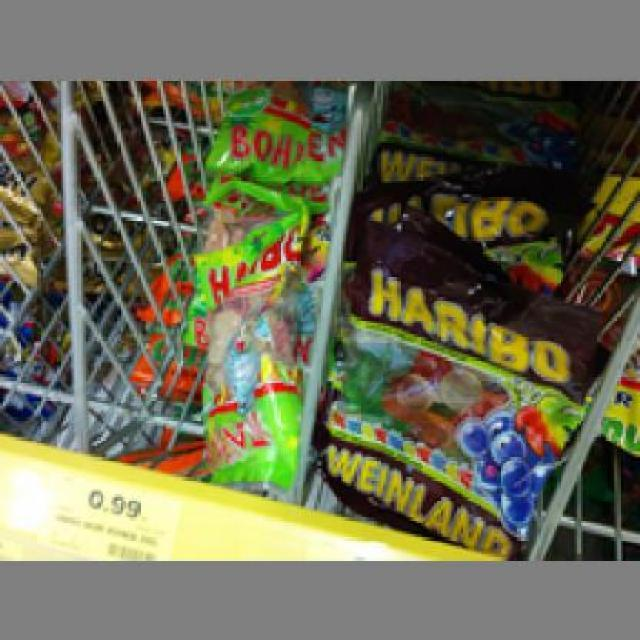Candy: (317, 239, 592, 552), (166, 202, 314, 495)
